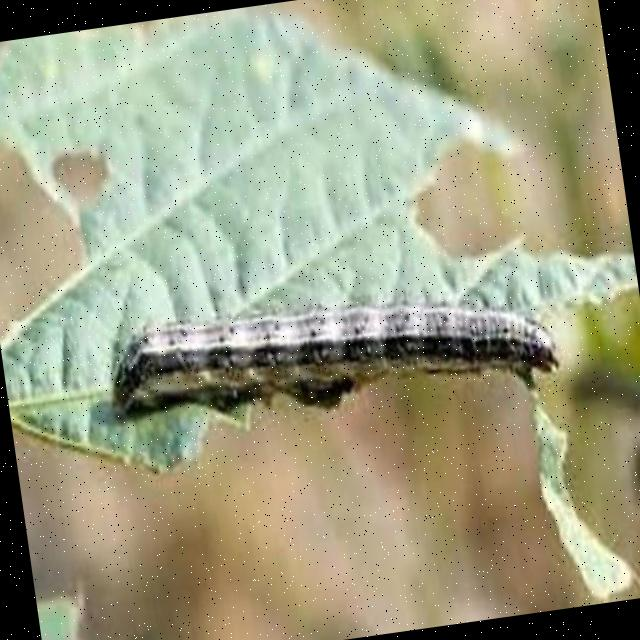worm: (102, 269, 566, 450)
